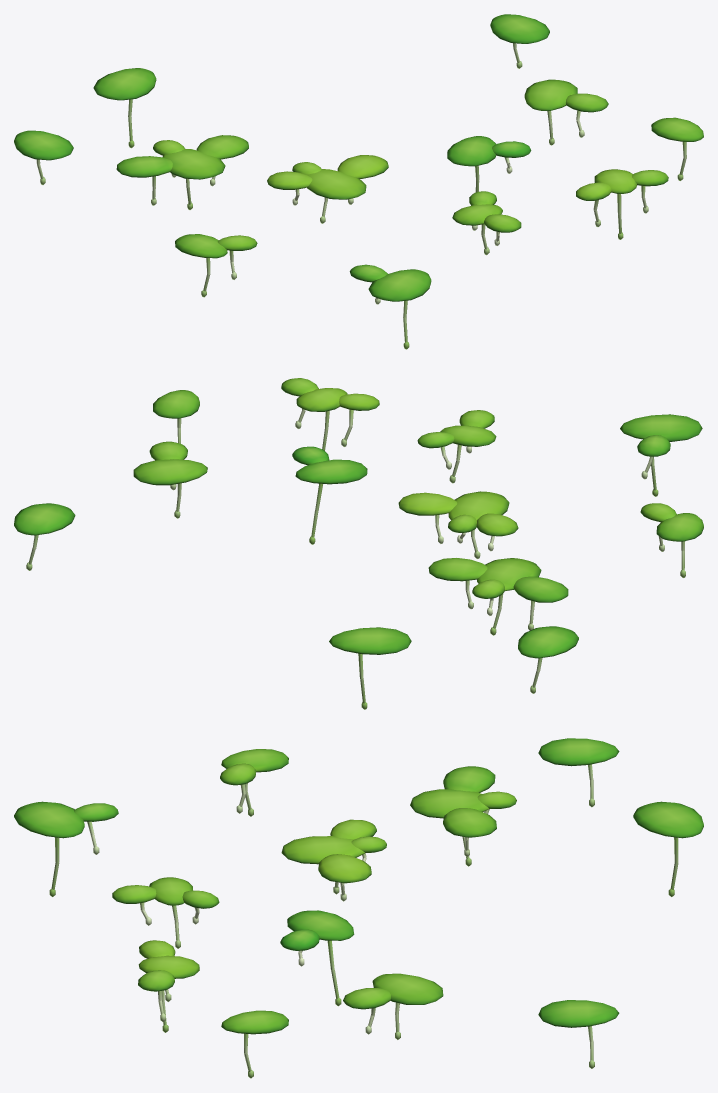
File: duckweed_tile_sparse.glb
3 renders of one model, top to bottom at view 1: azimuth 30°, elevation 25°; view 2: azimuth 150°, elevation 25°; view 3: azimuth 270°, elevation 25°, orthographic. The views are drawn at different scales.
Visible parts, largest first — view 1: DuckweedTileSparse; view 2: DuckweedTileSparse; view 3: DuckweedTileSparse.
Boxes of the visible parts, x1,y1,x2,y2 form: DuckweedTileSparse: [14, 14, 703, 349]; DuckweedTileSparse: [14, 378, 703, 709]; DuckweedTileSparse: [14, 738, 703, 1078].
Bounding box in the file's own units: 4.49 × 0.5828 × 4.46.
1 material, 1 textured.
